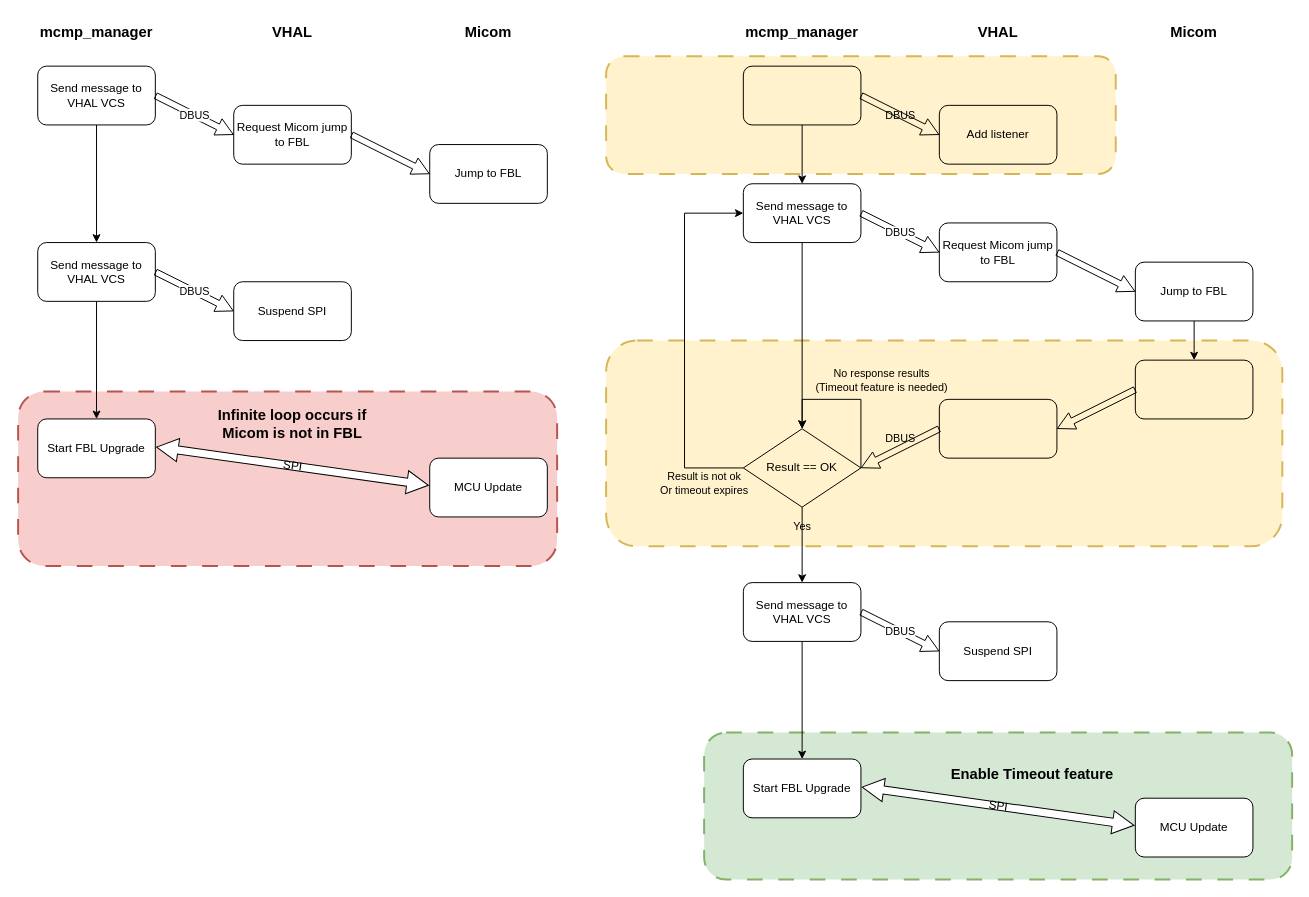
This 1309x897 diagram has some shape labels left out. Here are the shapes that lost their labels. From the top down, the centre of each, then its label:
At [801,95]: "Subscribe for response result".
At [1193,389]: "Response result to VHAL".
At [997,428]: "Response result to mcmp_manager".
